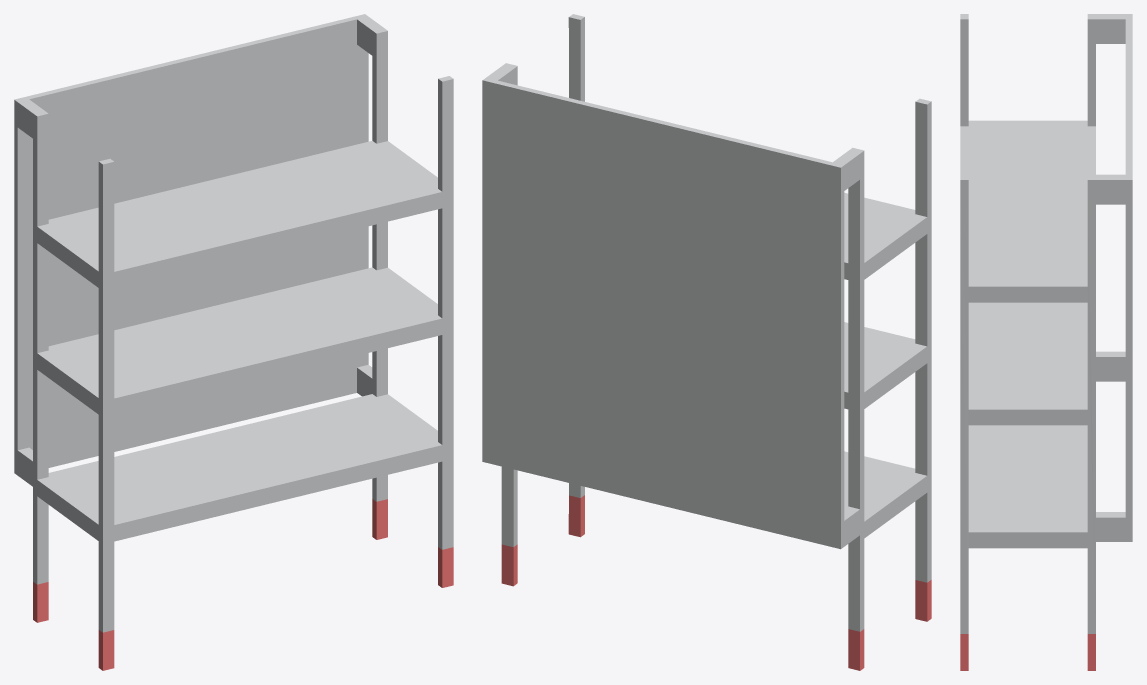
The picture shows the model from 3 angles, left to right: view 1: azimuth 30°, elevation 25°; view 2: azimuth 150°, elevation 25°; view 3: azimuth 270°, elevation 25°; orthographic projection. The views are drawn at different scales.
Parts seen in each view (by area): view 1: imagetostl_mesh114, imagetostl_mesh11, imagetostl_mesh71, imagetostl_mesh65, imagetostl_mesh68, imagetostl_mesh8, imagetostl_mesh5, imagetostl_mesh7, imagetostl_mesh173, imagetostl_mesh90, imagetostl_mesh157, imagetostl_mesh138 (+4 smaller); view 2: imagetostl_mesh106, imagetostl_mesh8, imagetostl_mesh111, imagetostl_mesh68, imagetostl_mesh65, imagetostl_mesh71, imagetostl_mesh5, imagetostl_mesh112, imagetostl_mesh7, imagetostl_mesh129, imagetostl_mesh6, imagetostl_mesh135 (+4 smaller); view 3: imagetostl_mesh65, imagetostl_mesh68, imagetostl_mesh71, imagetostl_mesh15, imagetostl_mesh170, imagetostl_mesh162, imagetostl_mesh174, imagetostl_mesh158, imagetostl_mesh7, imagetostl_mesh66, imagetostl_mesh67, imagetostl_mesh109 (+2 smaller).
Boxes of the visible parts, <box> form: imagetostl_mesh114: <box>17,19,368,467</box>; imagetostl_mesh11: <box>103,79,453,632</box>; imagetostl_mesh71: <box>37,394,441,524</box>; imagetostl_mesh65: <box>37,140,441,271</box>; imagetostl_mesh68: <box>37,267,441,398</box>; imagetostl_mesh8: <box>14,100,98,584</box>; imagetostl_mesh5: <box>98,162,102,632</box>; imagetostl_mesh7: <box>14,14,387,116</box>; imagetostl_mesh173: <box>37,221,387,352</box>; imagetostl_mesh90: <box>37,113,48,226</box>; imagetostl_mesh157: <box>376,31,387,143</box>; imagetostl_mesh138: <box>37,370,48,479</box>; imagetostl_mesh106: <box>482,80,840,549</box>; imagetostl_mesh8: <box>841,151,927,631</box>; imagetostl_mesh111: <box>844,180,859,509</box>; imagetostl_mesh68: <box>844,322,926,392</box>; imagetostl_mesh65: <box>844,192,926,262</box>; imagetostl_mesh71: <box>844,451,926,521</box>; imagetostl_mesh5: <box>927,101,931,582</box>; imagetostl_mesh112: <box>501,466,859,631</box>; imagetostl_mesh7: <box>483,63,863,167</box>; imagetostl_mesh129: <box>915,101,927,216</box>; imagetostl_mesh6: <box>915,234,927,346</box>; imagetostl_mesh135: <box>915,363,927,475</box>; imagetostl_mesh65: <box>960,120,1095,286</box>; imagetostl_mesh68: <box>968,302,1087,409</box>; imagetostl_mesh71: <box>968,425,1087,532</box>; imagetostl_mesh15: <box>1087,180,1132,633</box>; imagetostl_mesh170: <box>960,180,968,633</box>; imagetostl_mesh162: <box>968,532,1087,548</box>; imagetostl_mesh174: <box>968,286,1087,302</box>; imagetostl_mesh158: <box>968,409,1087,425</box>; imagetostl_mesh7: <box>1087,14,1132,179</box>; imagetostl_mesh66: <box>1087,19,1125,126</box>; imagetostl_mesh67: <box>960,19,968,126</box>; imagetostl_mesh109: <box>1096,357,1125,381</box>.
Bounding box in the file's own units: 2.28 × 3.15 × 1.
